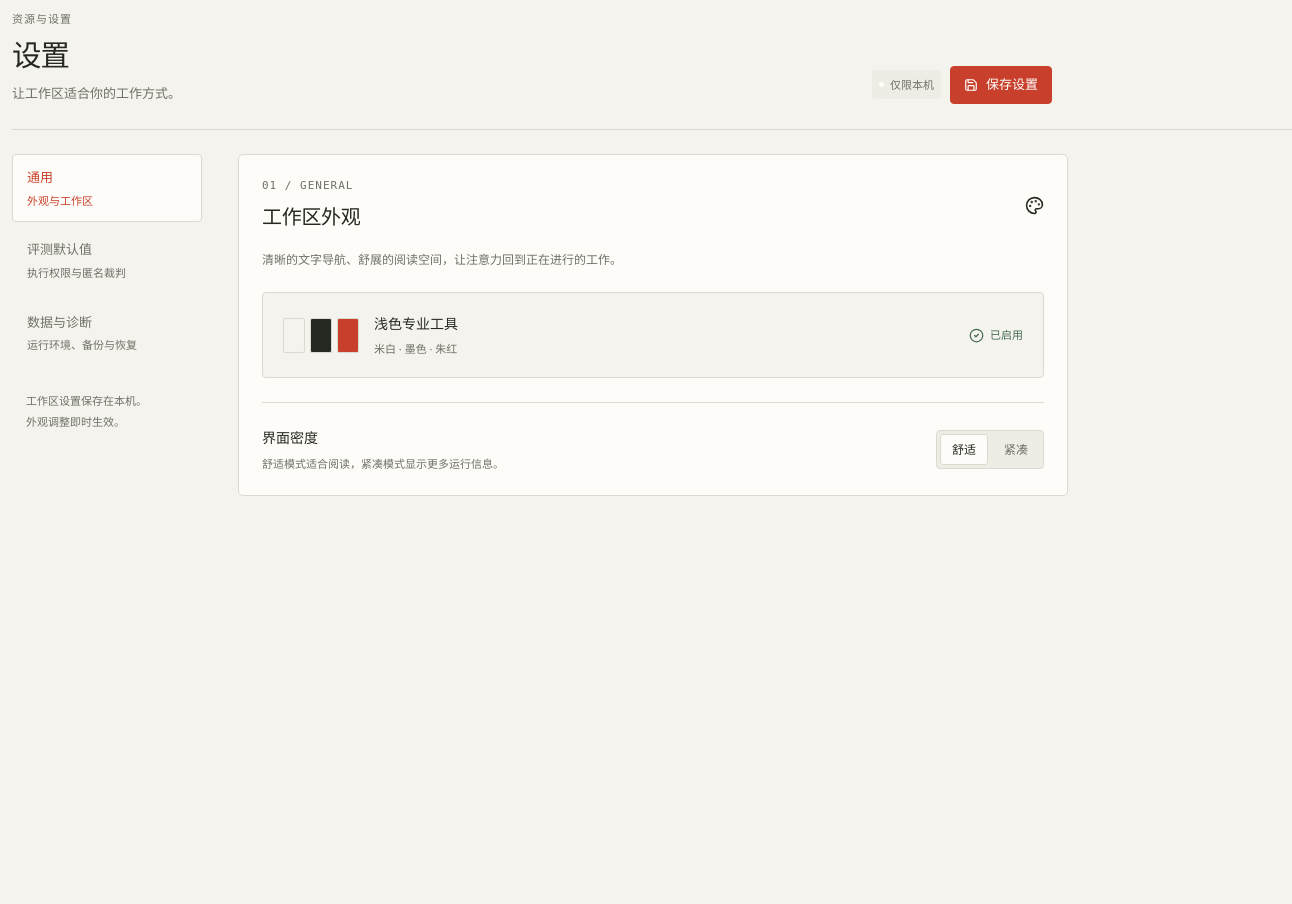
settings › migrates the legacy theme and persists density without changing the settings route
The image size is (1292, 904).
Check: the text "浅色专业工具" is shown, box [374,313,458,336]
Click the button "紧凑" at (1016, 450), box [992,434,1040,465]
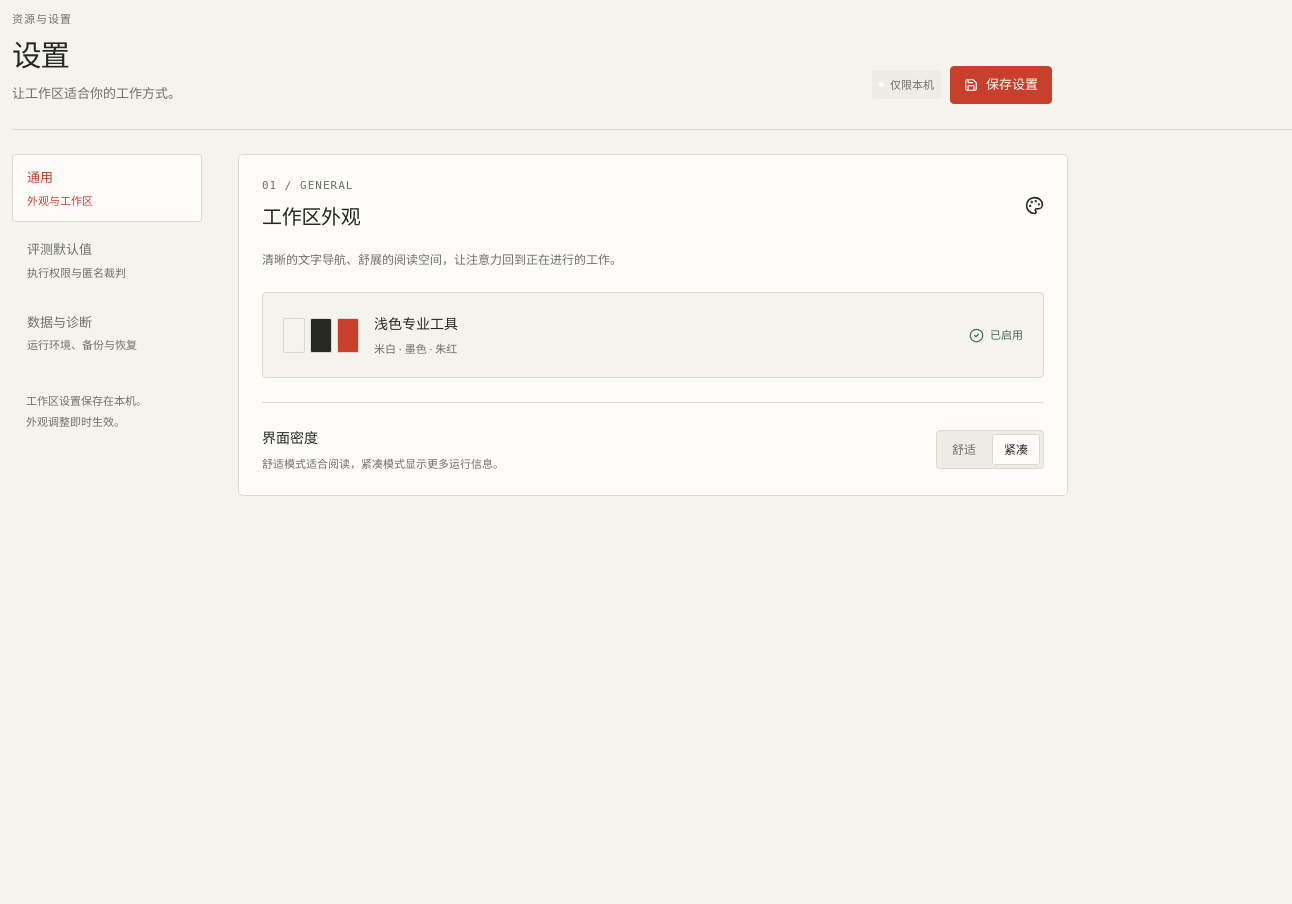
Click the button "数据与诊断 运行环境、备份与恢复" at (107, 333), box [12,299,202,367]
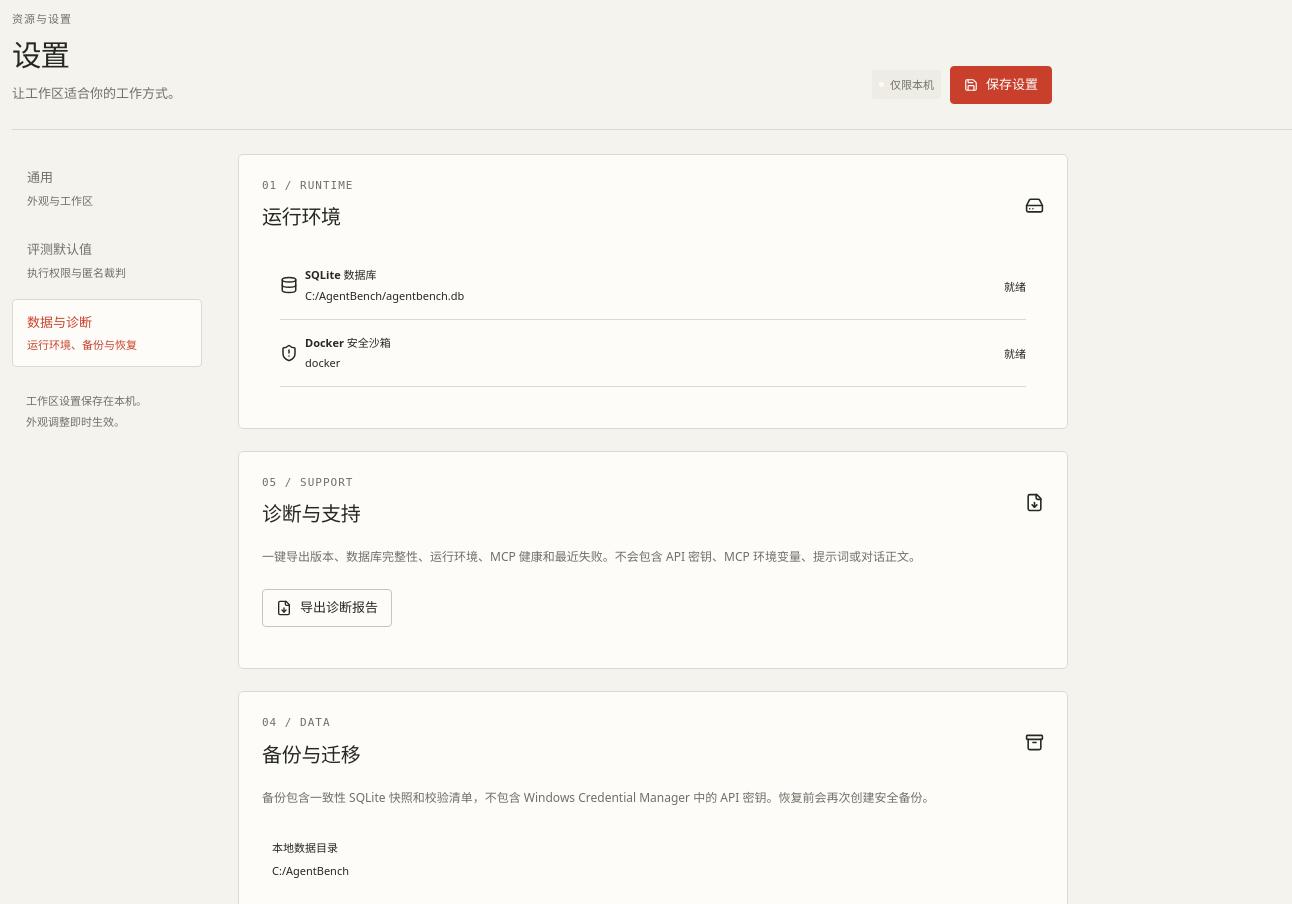
Check: the heading "备份与迁移" is shown, box [262,738,360,770]
Check: the text "浅色专业工具" is gone
